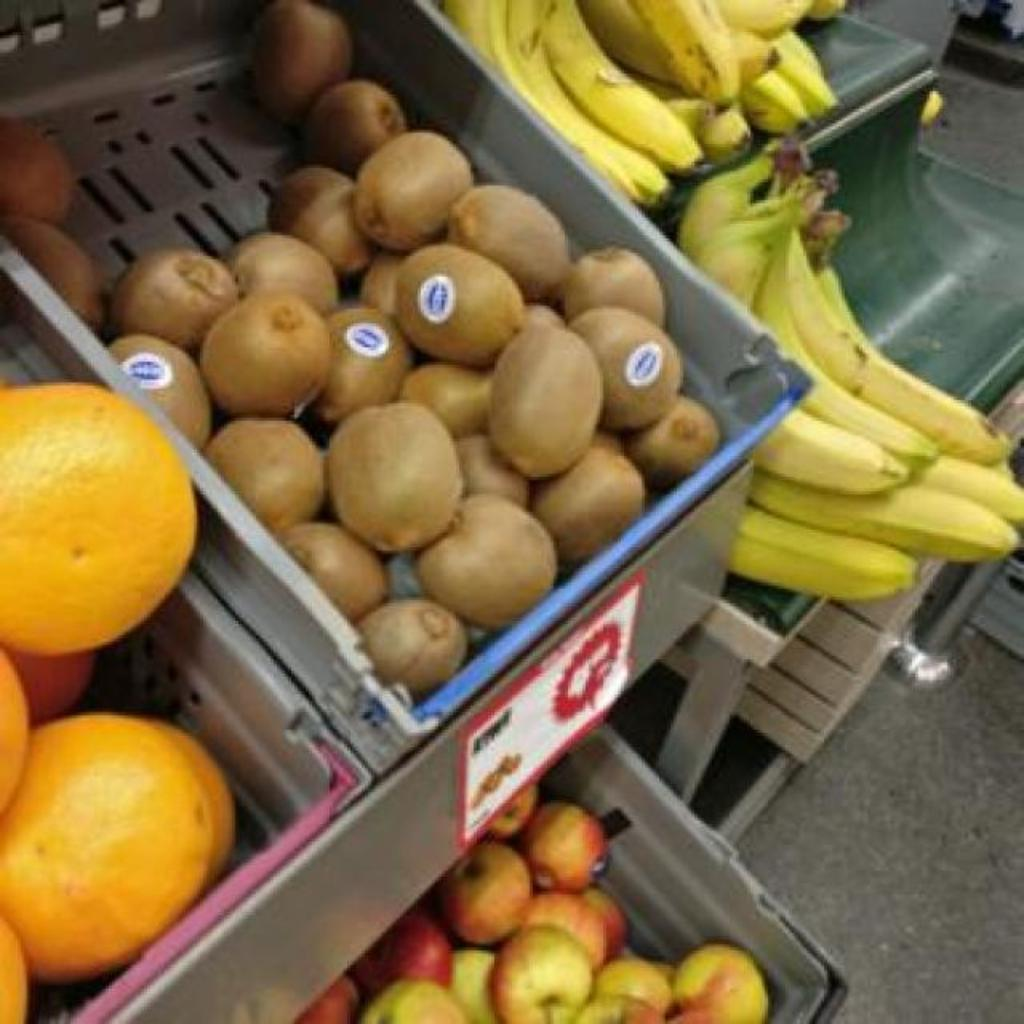kiwi: (0, 118, 100, 327), (330, 406, 464, 552), (416, 494, 556, 627), (488, 326, 604, 477), (200, 292, 332, 417), (396, 244, 520, 365), (356, 132, 472, 251), (448, 188, 568, 301), (532, 446, 646, 563), (570, 308, 680, 429), (206, 420, 324, 531), (114, 248, 236, 349), (0, 216, 106, 329), (254, 0, 352, 121), (110, 336, 212, 447), (314, 308, 412, 423), (272, 168, 374, 275), (282, 522, 388, 621), (358, 600, 466, 695), (304, 78, 408, 173), (230, 232, 338, 313), (626, 396, 720, 487), (566, 250, 664, 325), (400, 366, 492, 437), (456, 434, 528, 507), (360, 252, 404, 315), (526, 304, 566, 329)
